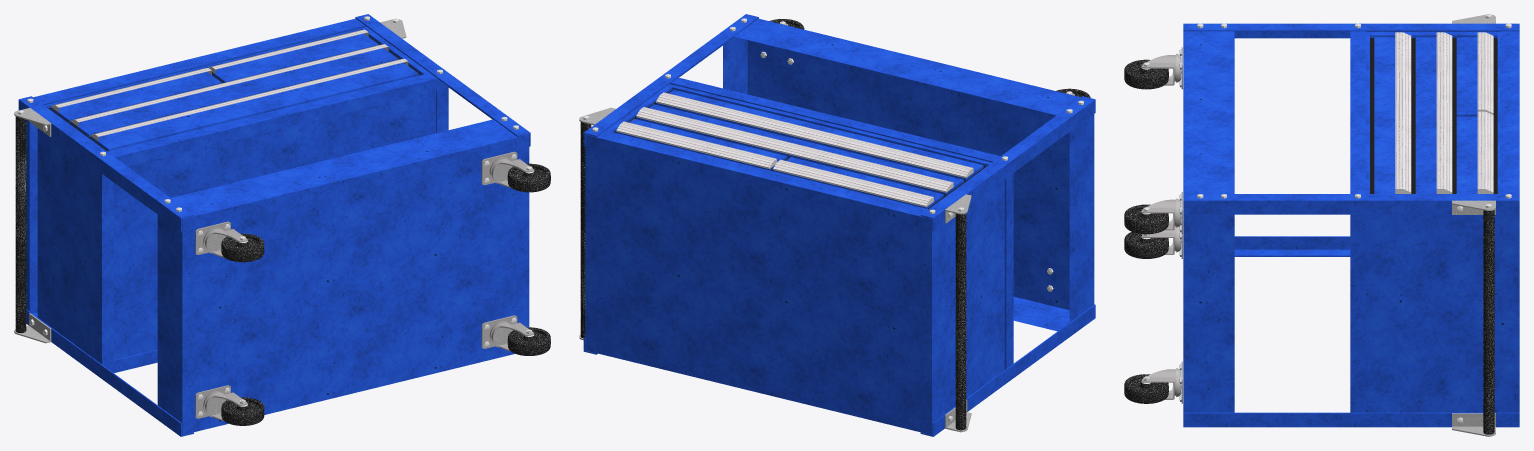
The model's file is tool_cart.fbx.
The picture shows the model from 3 angles, left to right: view 1: azimuth 30°, elevation 25°; view 2: azimuth 150°, elevation 25°; view 3: azimuth 270°, elevation 25°; orthographic projection. The views are drawn at different scales.
Parts seen in each view (by area): view 1: Material2, Material2.019, Material2.021, Material2.001, Material2.016, Material2.020, Material2.029, Material2.239, Material2.018, Material2.017, Material2.047, Material2.035 (+7 smaller); view 2: Material2.001, Material2, Material2.019, Material2.021, Material2.007, Material2.004, Material2.029, Material2.020, Material2.016, Material2.239, Material2.047, Material2.035 (+7 smaller); view 3: Material2.019, Material2, Material2.001, Material2.047, Material2.021, Material2.041, Material2.029, Material2.016, Material2.020, Material2.014, Material2.250, Material2.004 (+11 smaller).
Boxes of the visible parts, <box> form: Material2: <box>157,119,529,434</box>; Material2.019: <box>37,27,436,360</box>; Material2.021: <box>94,73,448,372</box>; Material2.001: <box>26,18,366,316</box>; Material2.016: <box>91,62,418,151</box>; Material2.020: <box>71,48,398,136</box>; Material2.029: <box>18,96,193,231</box>; Material2.239: <box>15,116,26,333</box>; Material2.018: <box>51,72,221,122</box>; Material2.017: <box>212,33,378,82</box>; Material2.047: <box>355,14,530,146</box>; Material2.035: <box>26,309,193,436</box>; Material2.001: <box>585,130,941,434</box>; Material2: <box>723,18,1094,331</box>; Material2.019: <box>606,84,1004,416</box>; Material2.021: <box>670,77,1013,369</box>; Material2.007: <box>656,92,972,178</box>; Material2.004: <box>636,107,953,192</box>; Material2.029: <box>920,96,1095,231</box>; Material2.020: <box>636,104,963,195</box>; Material2.016: <box>656,90,983,180</box>; Material2.239: <box>955,213,966,430</box>; Material2.047: <box>583,14,758,146</box>; Material2.035: <box>920,304,1095,436</box>; Material2.019: <box>1365,32,1499,412</box>; Material2: <box>1183,31,1234,412</box>; Material2.001: <box>1500,31,1519,412</box>; Material2.047: <box>1183,194,1519,214</box>; Material2.021: <box>1350,31,1365,412</box>; Material2.041: <box>1183,412,1519,427</box>; Material2.029: <box>1183,23,1519,38</box>; Material2.016: <box>1374,37,1395,193</box>; Material2.020: <box>1415,37,1436,193</box>; Material2.014: <box>1370,38,1497,193</box>; Material2.250: <box>1483,210,1494,434</box>; Material2.004: <box>1436,32,1452,191</box>.
Size of the model in its own units: 413 by 228 by 353.
